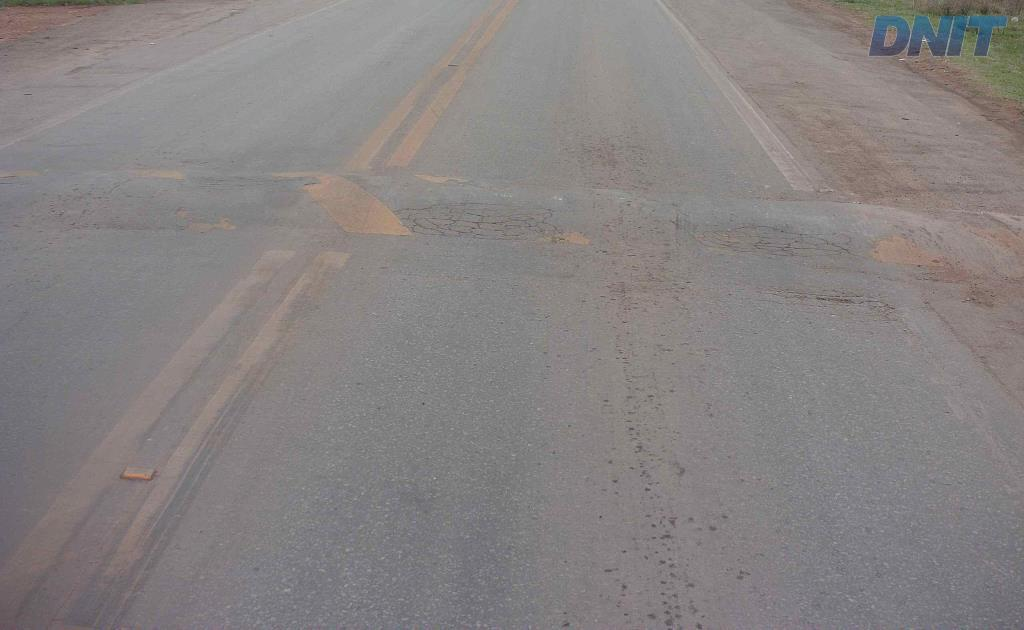crack: (455, 208, 550, 239)
